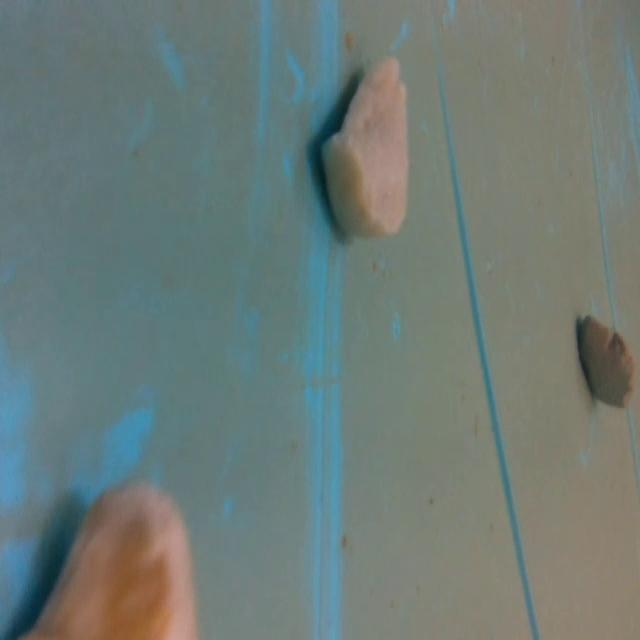rock: (315, 47, 416, 248), (572, 305, 640, 415)
